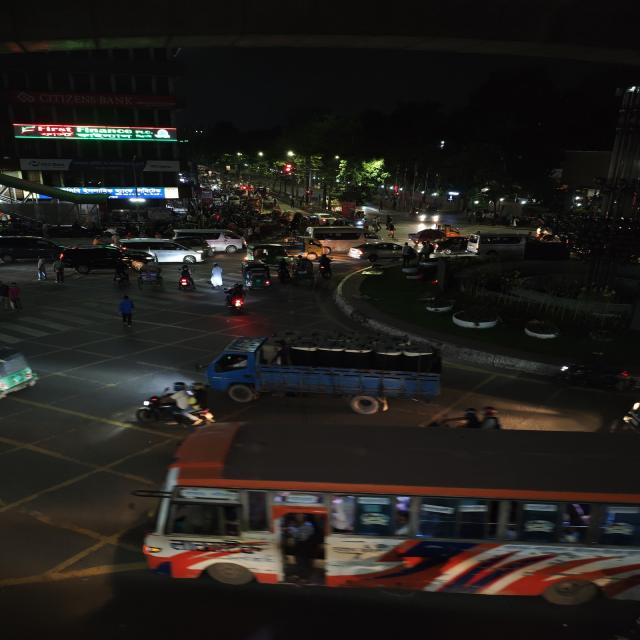bus: (140, 406, 636, 592), (306, 219, 368, 252)
car: (0, 232, 71, 269), (119, 236, 204, 266), (468, 226, 532, 258), (178, 227, 244, 253), (349, 240, 410, 261)
cng: (0, 336, 43, 403), (240, 261, 274, 291), (251, 242, 294, 264)
motorcycle: (134, 386, 215, 430), (422, 404, 509, 432), (224, 282, 248, 314), (174, 266, 197, 292), (109, 264, 131, 288)
pedestrian: (113, 293, 142, 333), (3, 280, 26, 314), (206, 262, 227, 290), (32, 255, 51, 285), (49, 255, 68, 283)
pickup_van: (212, 325, 440, 409), (280, 236, 326, 259)
rickshaw: (135, 258, 165, 289), (290, 255, 318, 281)
